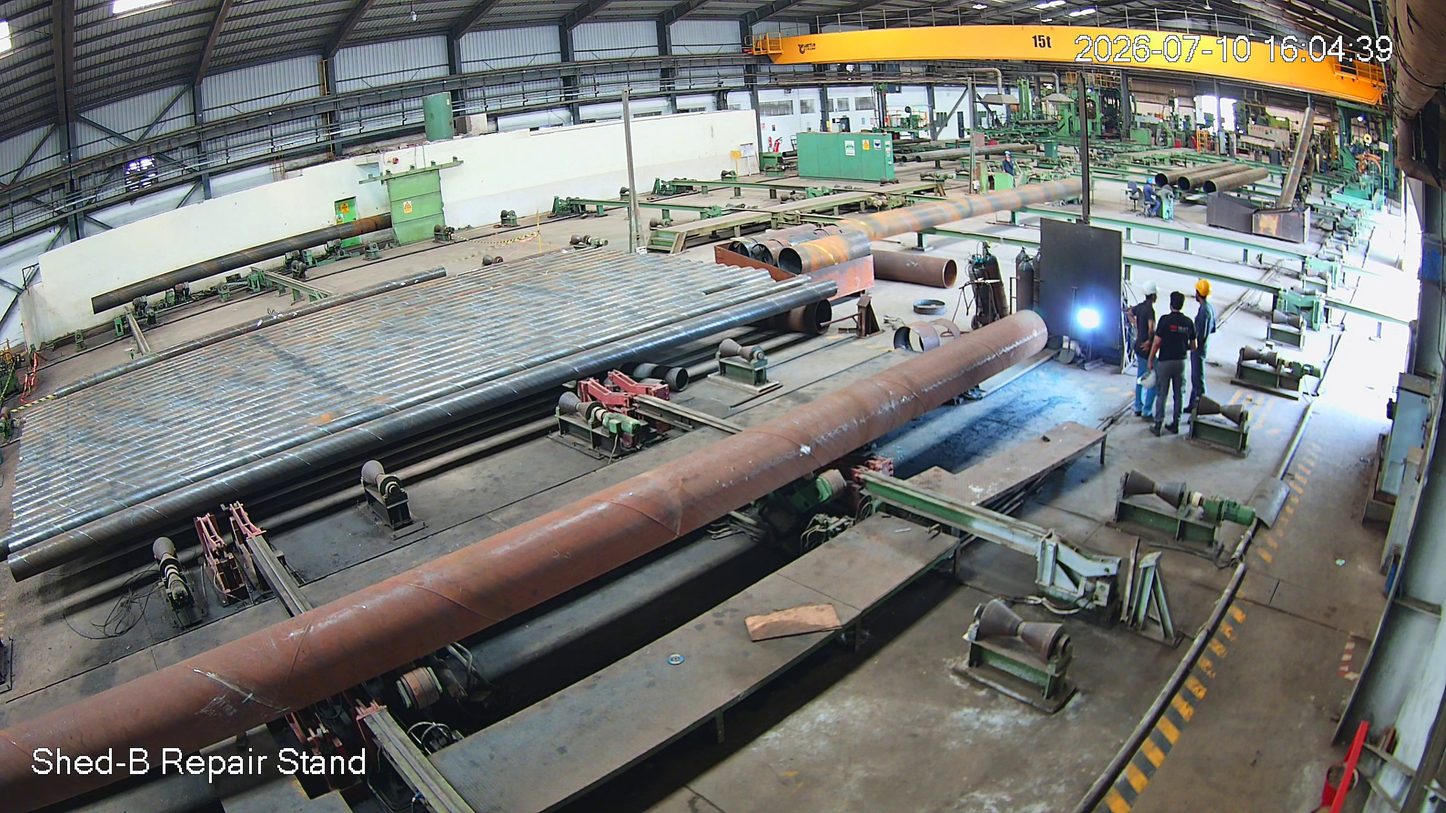Helmet: (1193, 277, 1218, 308), (1136, 277, 1164, 303)
Person: (1153, 289, 1193, 416), (1130, 281, 1164, 415), (1190, 279, 1219, 427)
